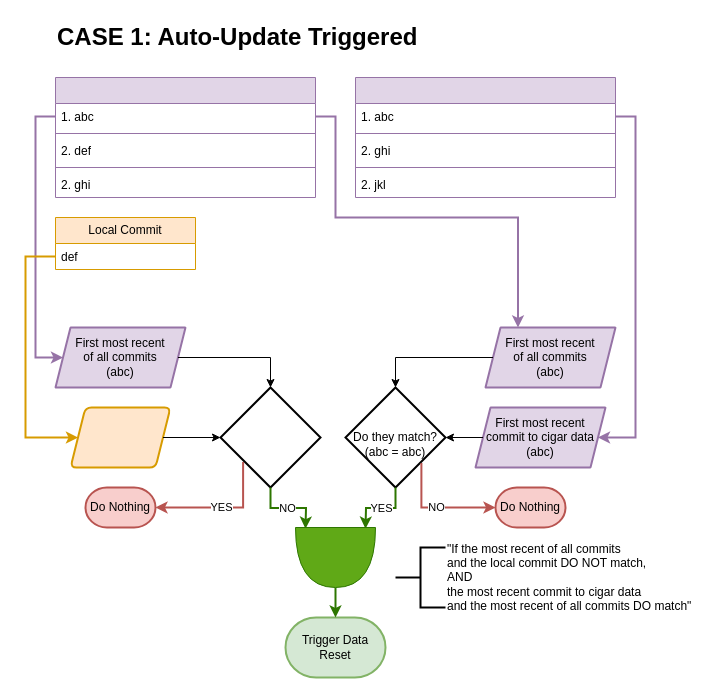
Image size: 708x695. Some labels were removed from this diagram. Each missing label, with the box of its shape:
All Recent Commits: (54, 76, 316, 198)
Do they match? (abc ≠ def): (219, 386, 321, 488)
Local commit (def): (69, 406, 171, 468)
Recent commits to cigar data: (354, 76, 616, 198)
